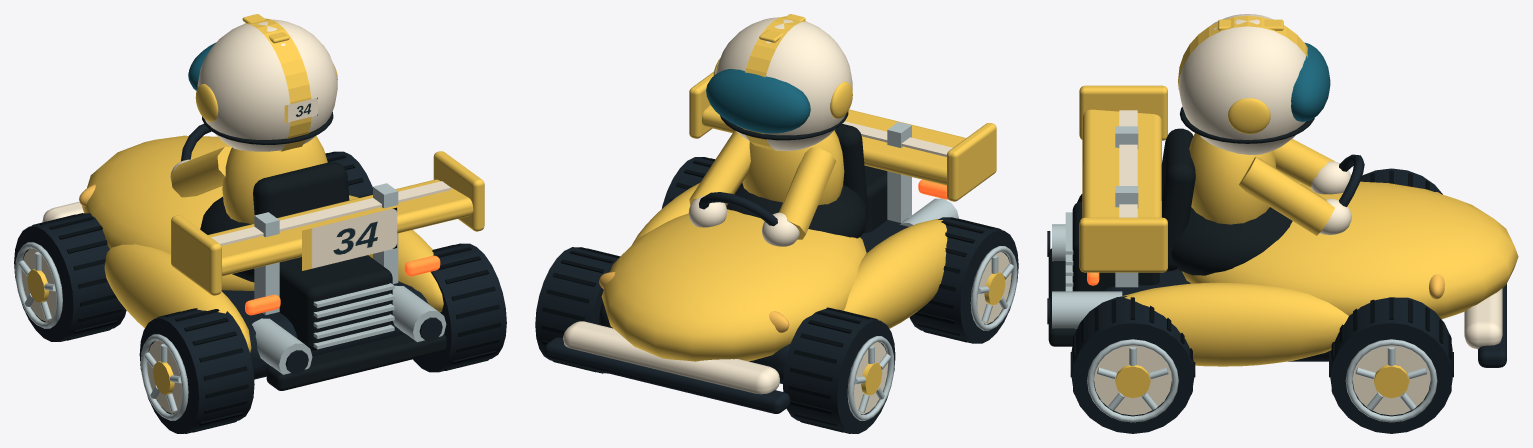
The picture shows the model from 3 angles, left to right: view 1: azimuth 30°, elevation 25°; view 2: azimuth 150°, elevation 25°; view 3: azimuth 270°, elevation 25°; orthographic projection. The views are drawn at different scales.
Visible parts, largest first — view 1: Painted racing shell, rubber, Carbon seats and engine recesses, ivory, metal, Tire grooves, Driver racing number, Rear amber lenses; view 2: Painted racing shell, rubber, ivory, Carbon seats and engine recesses, metal, glass, Tire grooves, gold; view 3: Painted racing shell, ivory, rubber, Carbon seats and engine recesses, metal, Tire grooves, glass.
Part boxes in pixels (x1,y1,x2,y2): Painted racing shell: [27, 14, 484, 394]; rubber: [14, 124, 506, 433]; Carbon seats and engine recesses: [200, 112, 446, 390]; ivory: [21, 19, 450, 413]; metal: [15, 183, 446, 420]; Tire grooves: [32, 151, 500, 433]; Driver racing number: [284, 97, 397, 270]; Rear amber lenses: [245, 255, 440, 315]; Painted racing shell: [601, 14, 1005, 395]; rubber: [535, 157, 1018, 433]; ivory: [563, 17, 1011, 414]; Carbon seats and engine recesses: [720, 111, 907, 238]; metal: [847, 122, 1017, 420]; glass: [706, 69, 810, 133]; Tire grooves: [541, 157, 1001, 433]; gold: [599, 272, 789, 332]; Painted racing shell: [1079, 15, 1518, 398]; ivory: [1094, 14, 1502, 415]; rubber: [1047, 154, 1506, 433]; Carbon seats and engine recesses: [1048, 107, 1314, 346]; metal: [1052, 126, 1437, 422]; Tire grooves: [1070, 170, 1453, 394]; glass: [1291, 42, 1330, 121].
Bounding box in the file's own units: 2.51 × 2.43 × 3.08.
Materials: 10 (1 with a texture image).
